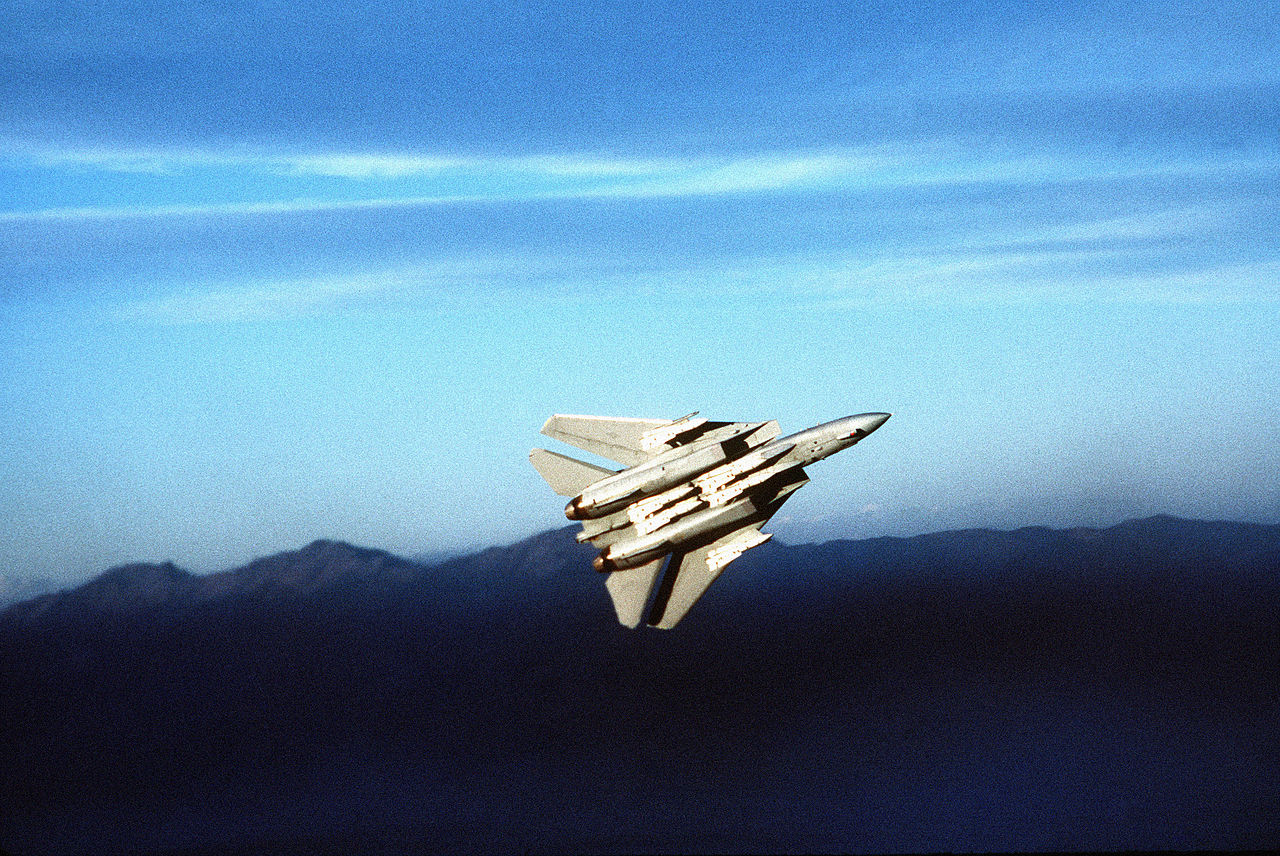F14: (528, 410, 892, 630)
